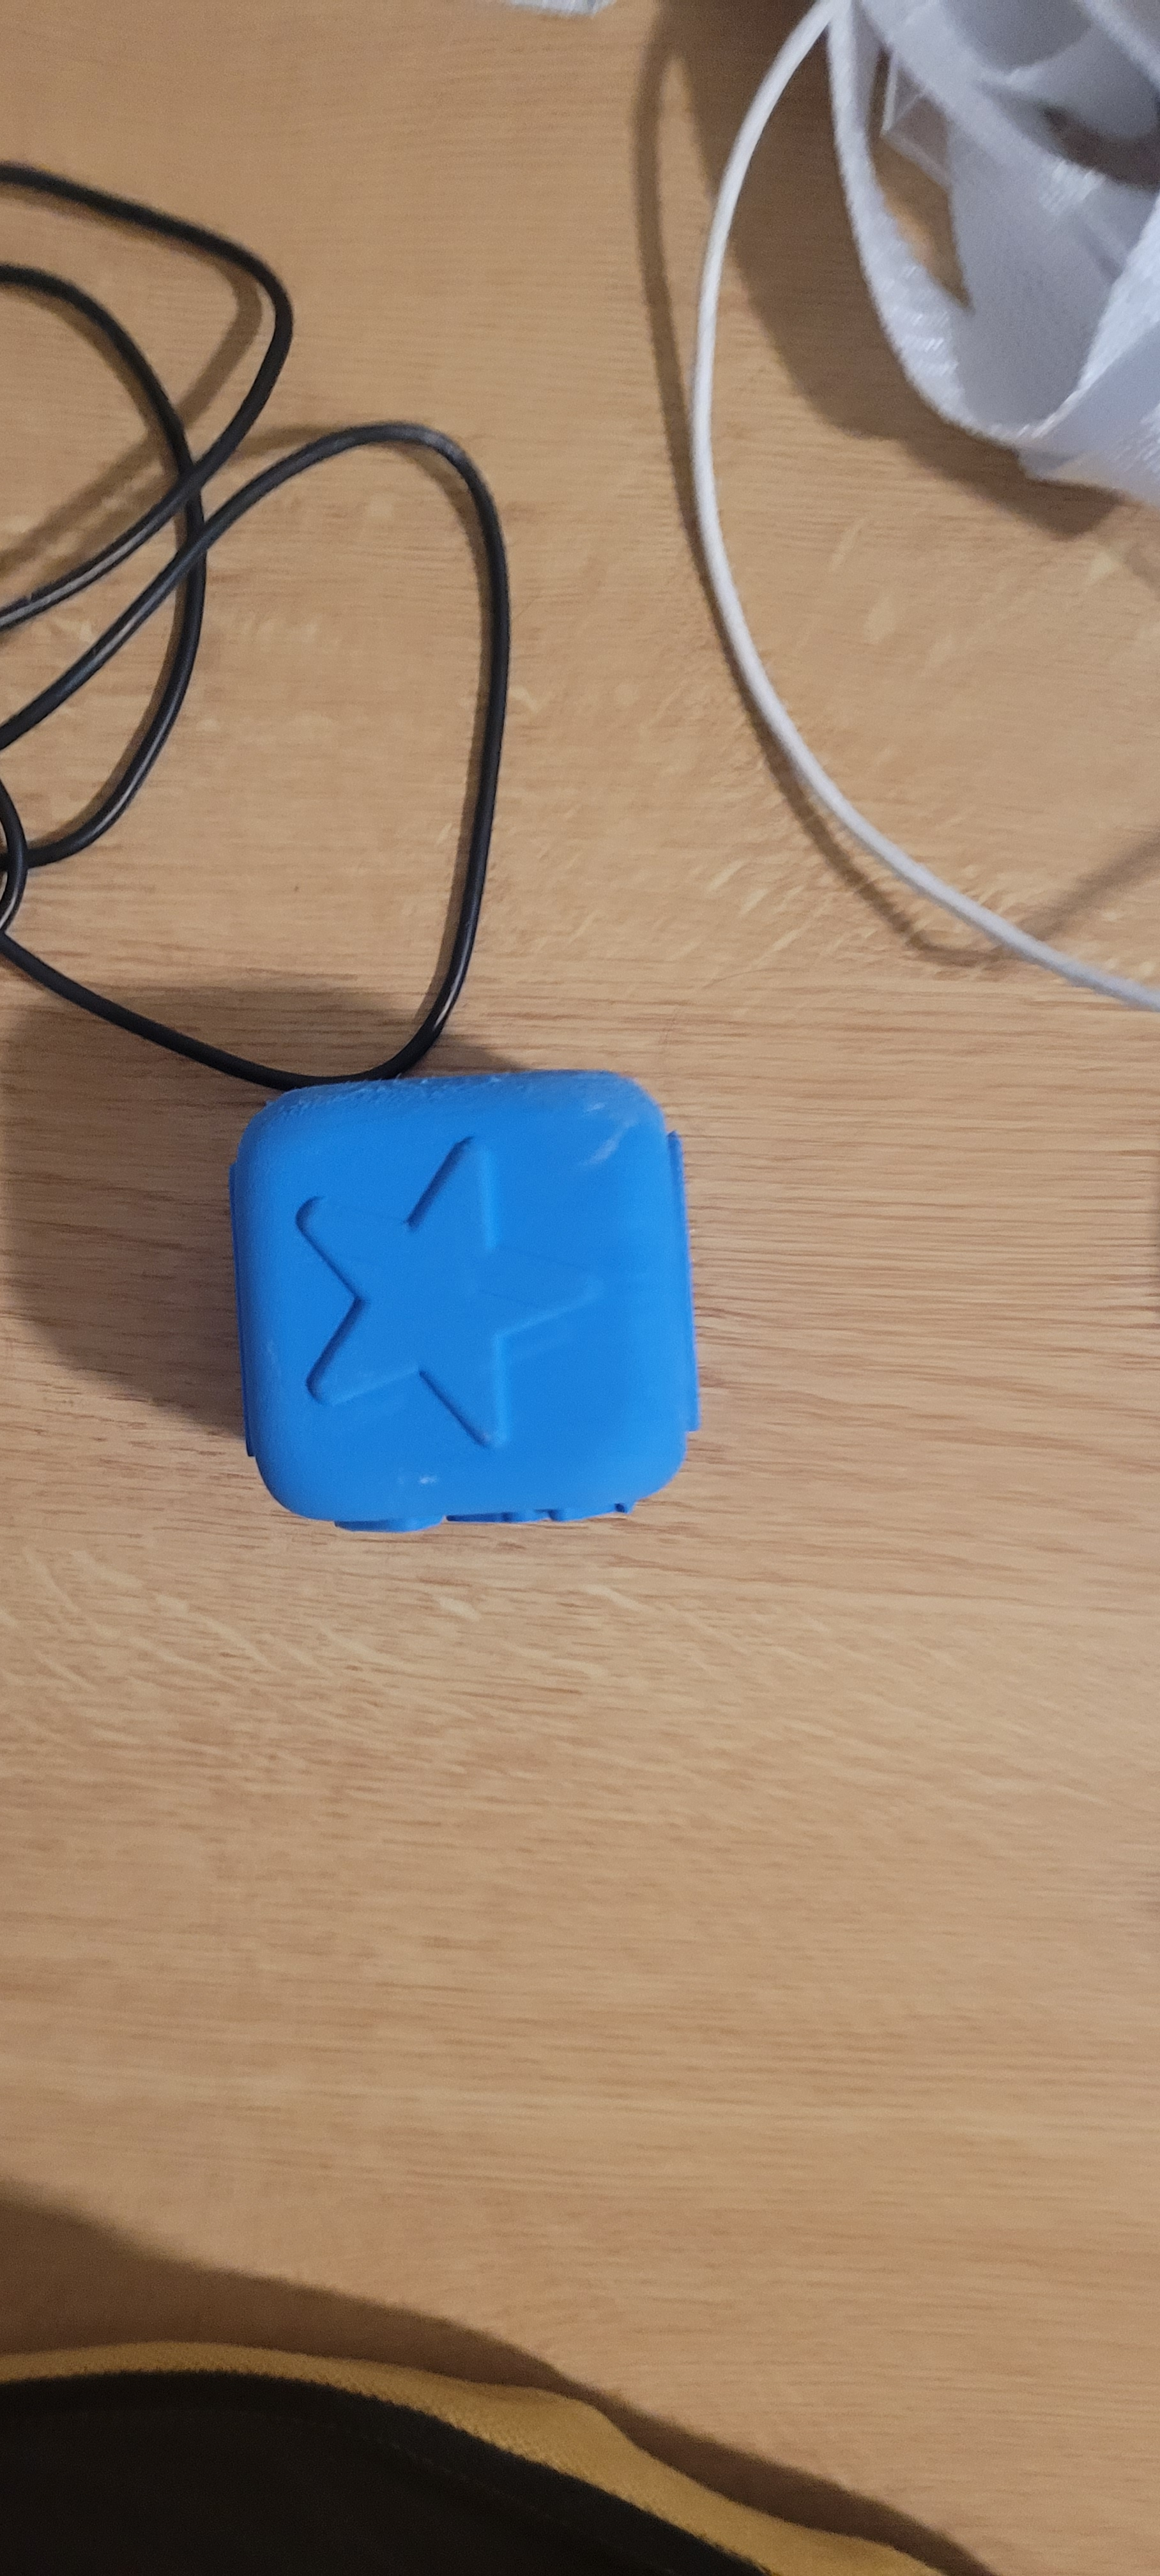Star: (297, 1096, 619, 1483)
